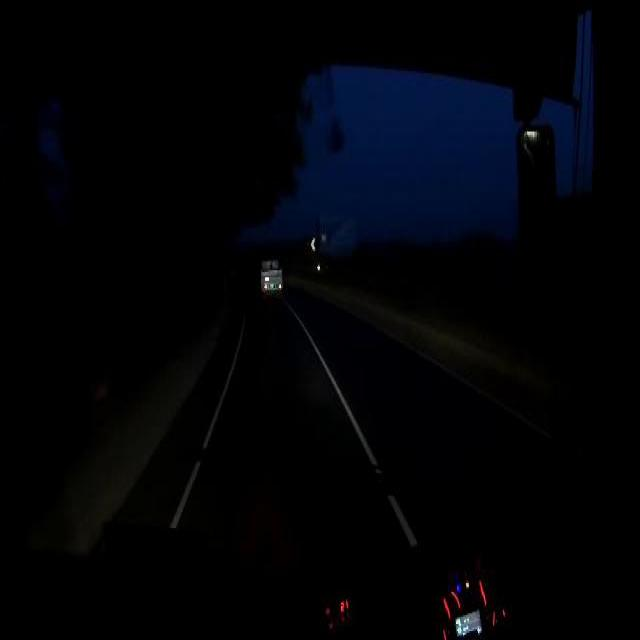vehicle: (260, 260, 283, 297)
